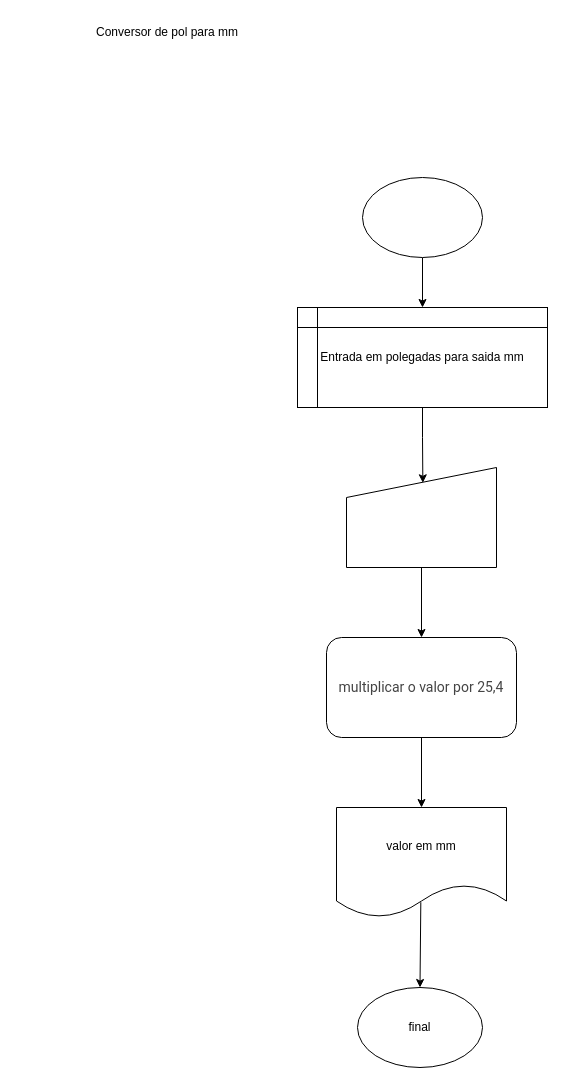
This 565x1085 diagram has some shape labels left out. Each missing label, with the box of its shape:
INICIO: (362, 176, 482, 258)
Valor em polegadas: (346, 466, 496, 568)
